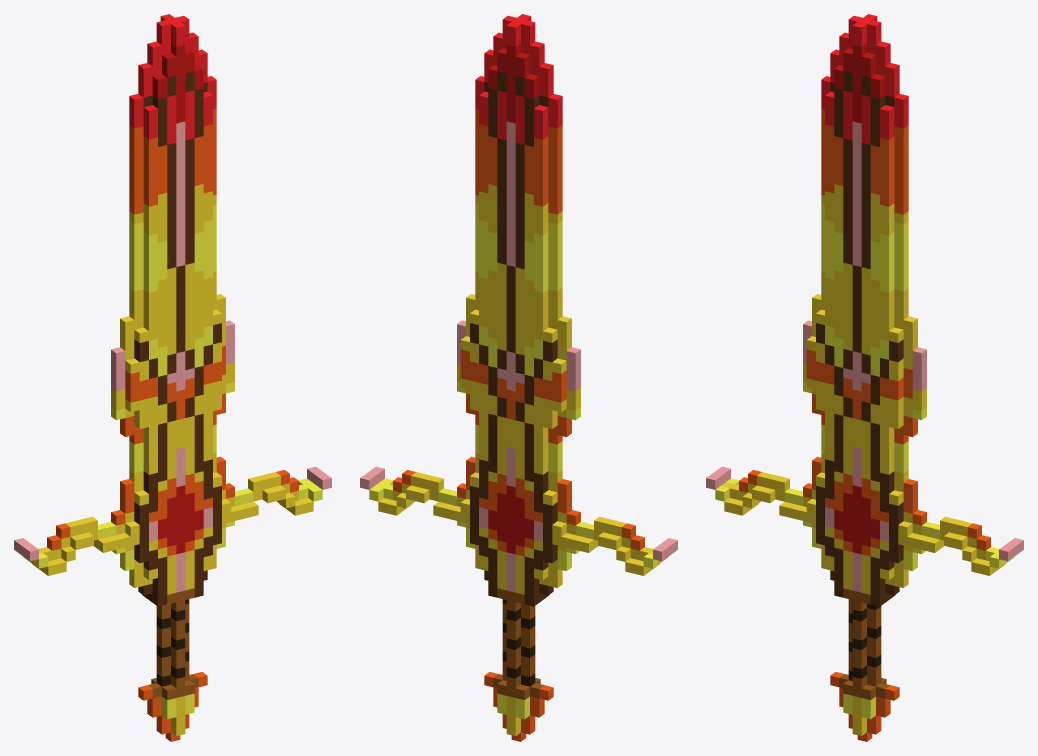
File: goldenRed.obj
The picture shows the model from 3 angles, left to right: view 1: azimuth 30°, elevation 25°; view 2: azimuth 150°, elevation 25°; view 3: azimuth 330°, elevation 25°; orthographic projection.
Size of the model in its own units: 3.3 by 7.5 by 0.3.
1 material, 1 textured.
